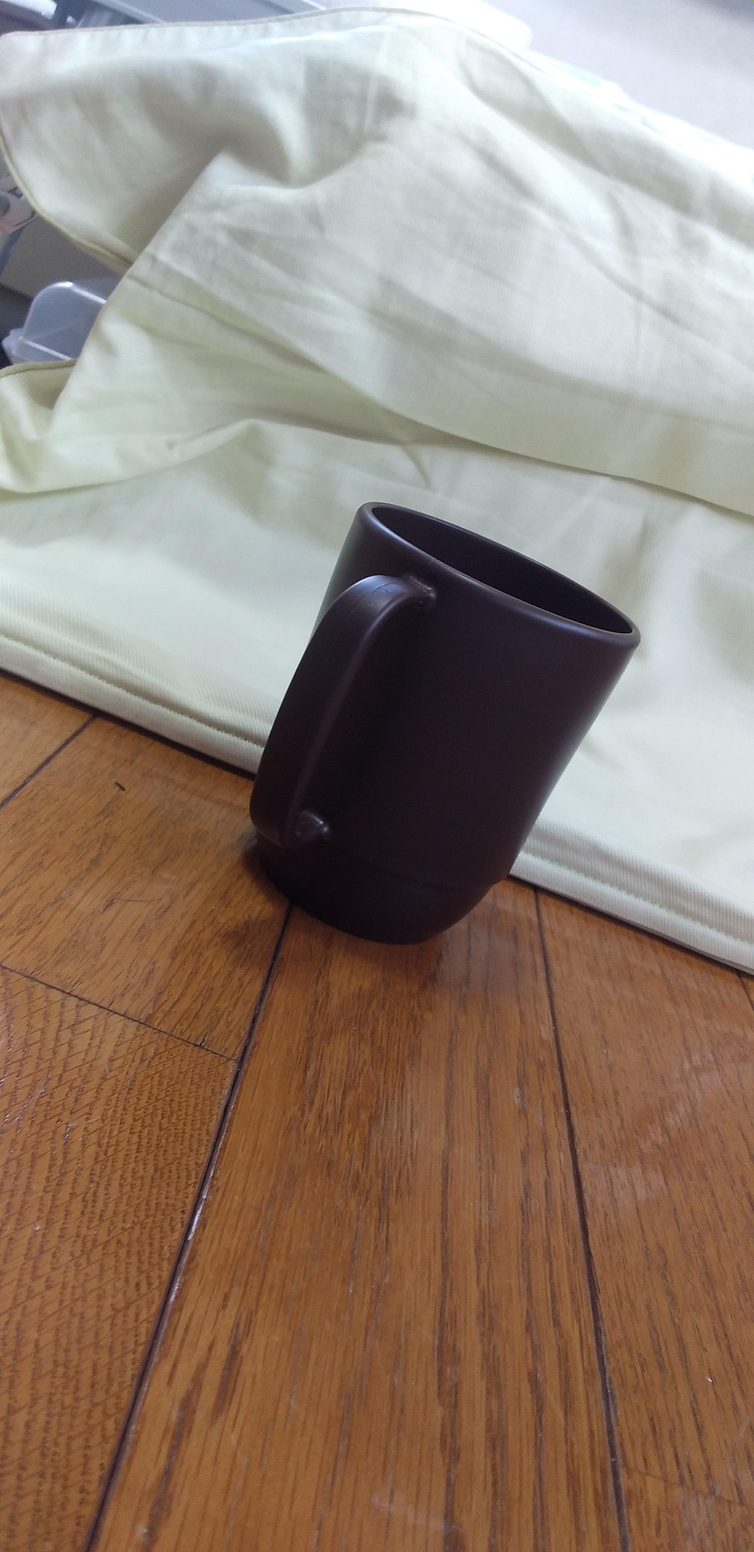mug-real100-3d100: (250, 504, 638, 943)
